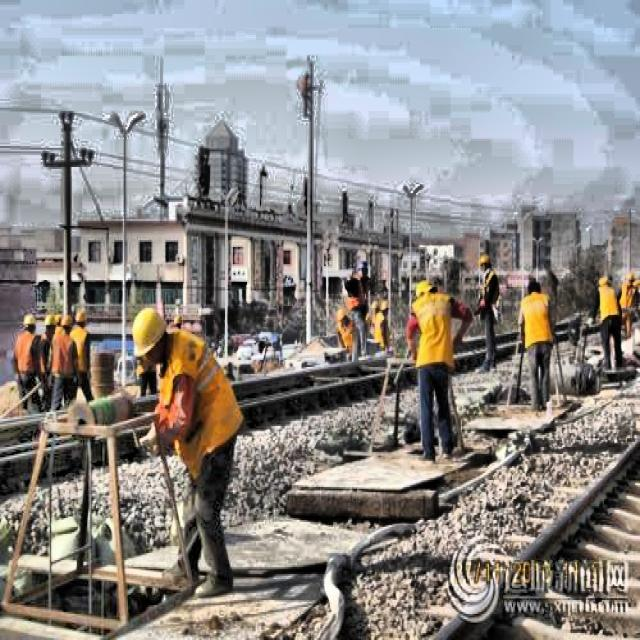helmet: (127, 301, 169, 365), (41, 311, 56, 341), (477, 248, 493, 274), (23, 308, 36, 336), (76, 304, 87, 334), (60, 313, 74, 336)
